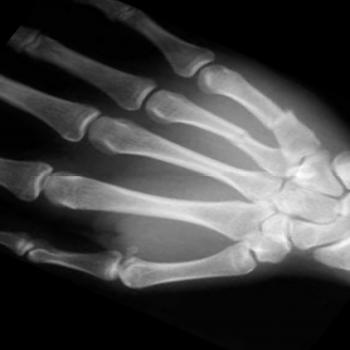Fracture: (271, 104, 304, 133), (230, 127, 254, 145)
